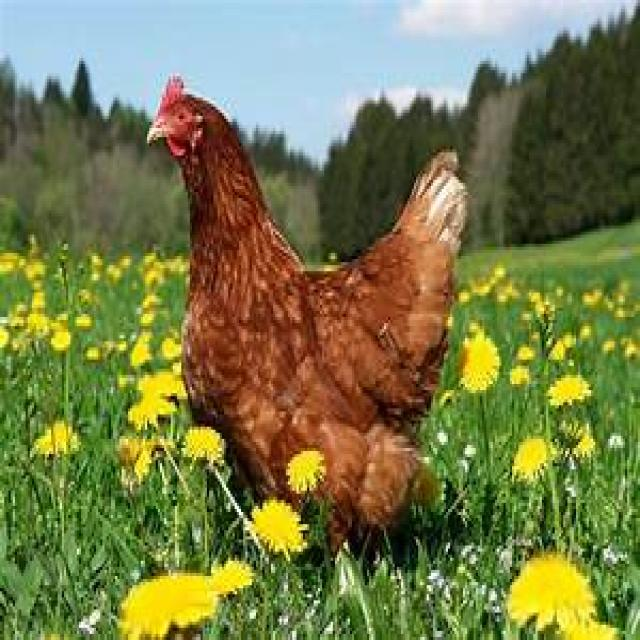hen: (149, 79, 468, 546)
